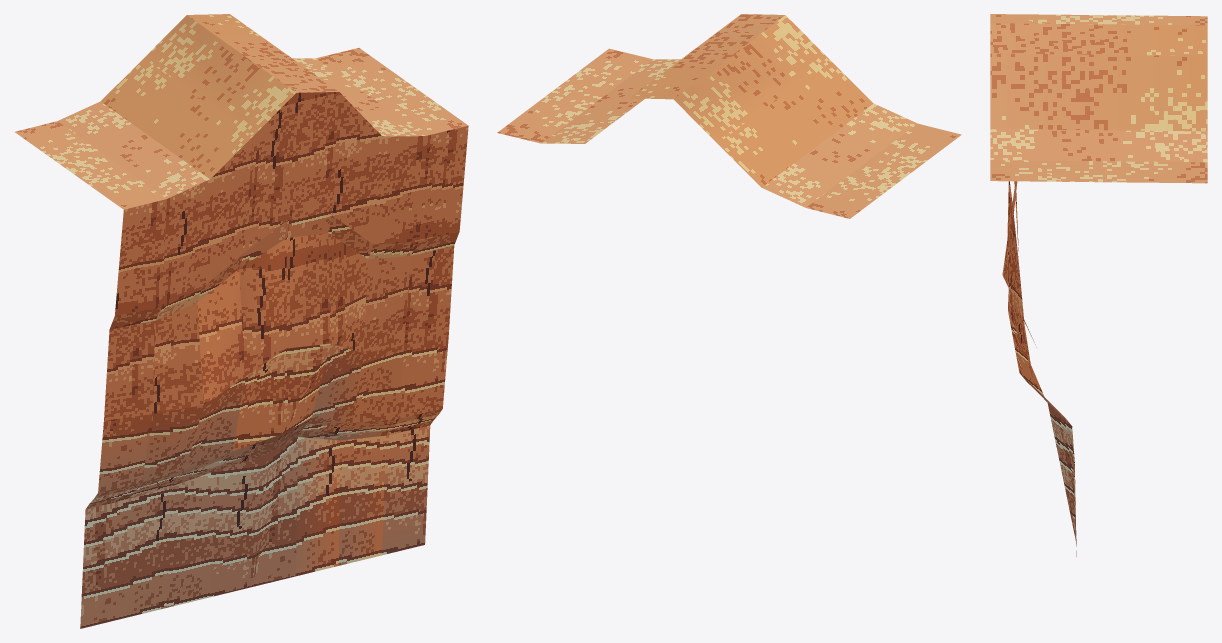
Rendered from wland.canyon_wall.glb.
3 renders of one model, left to right at view 1: azimuth 30°, elevation 25°; view 2: azimuth 150°, elevation 25°; view 3: azimuth 270°, elevation 25°, orthographic. The views are drawn at different scales.
Visible parts, largest first — view 1: kit_shell_face, kit_shell_cap; view 2: kit_shell_cap; view 3: kit_shell_cap, kit_shell_face.
Boxes of the visible parts, x1,y1,x2,y2 form: kit_shell_face: (80,92,468,628); kit_shell_cap: (15,14,467,209); kit_shell_cap: (497,14,961,218); kit_shell_cap: (990,14,1207,183); kit_shell_face: (1002,181,1076,556).
Size of the model in its own units: 8 by 11.66 by 4.4.
3 materials, 3 textured.
